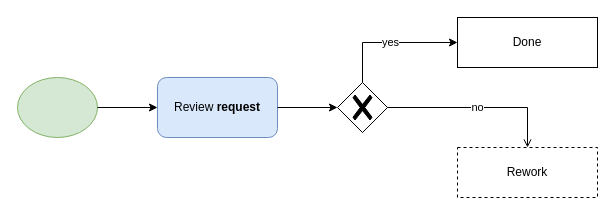
Some shapes in this 615 by 215 pixel diagram are drawn without their labels. Each missing label, with the centre of its shape:
"Approved?" belongs at (x=362, y=107).
"Start" belongs at (x=57, y=107).
